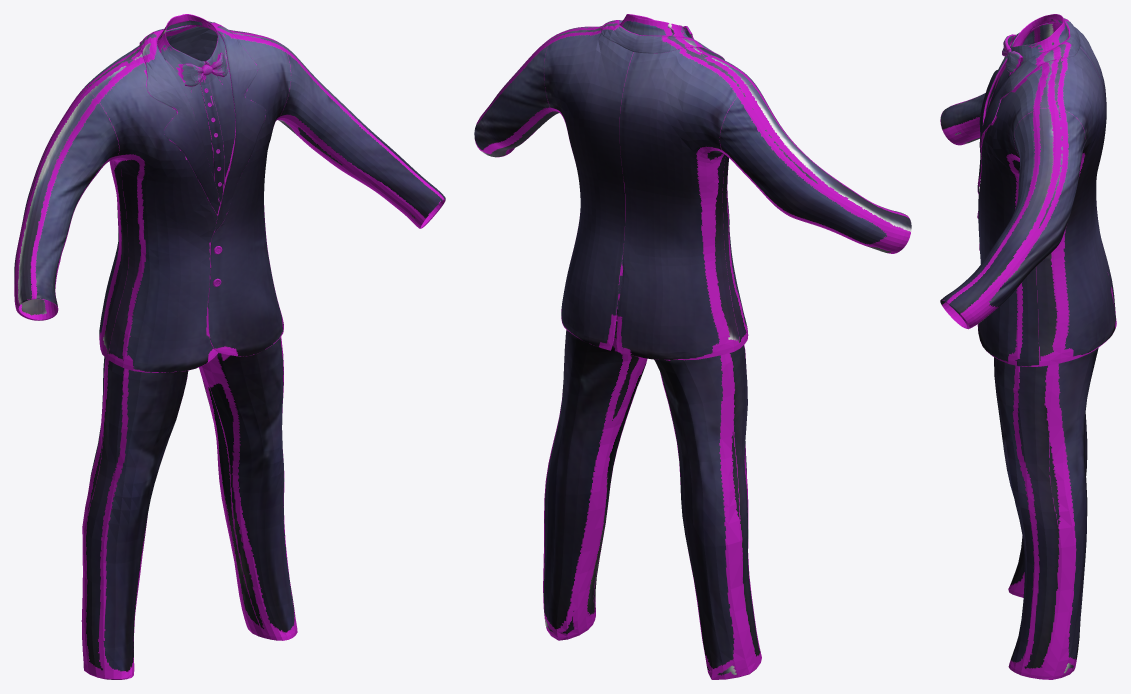
3 renders of one model, left to right at view 1: azimuth 30°, elevation 25°; view 2: azimuth 150°, elevation 25°; view 3: azimuth 270°, elevation 25°, orthographic. The views are drawn at different scales.
Size of the model in its own units: 0.5374 by 0.7563 by 0.1972.
Materials: 1 (1 with a texture image).
